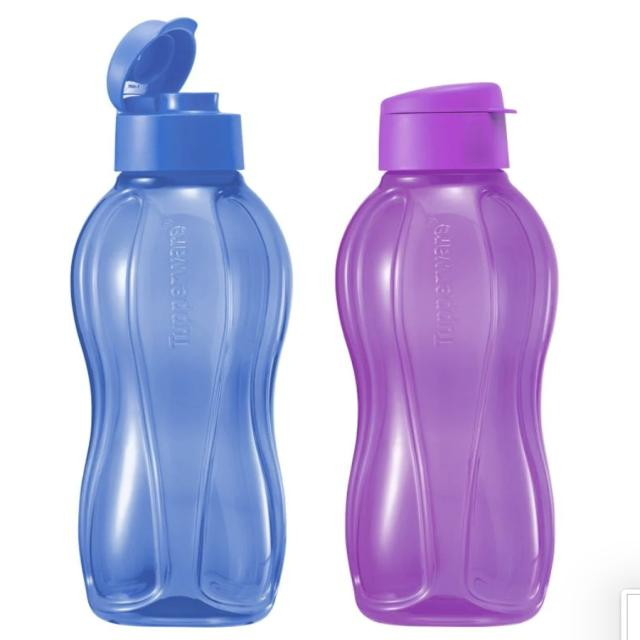recyclable: (41, 4, 323, 638), (317, 62, 582, 639)
